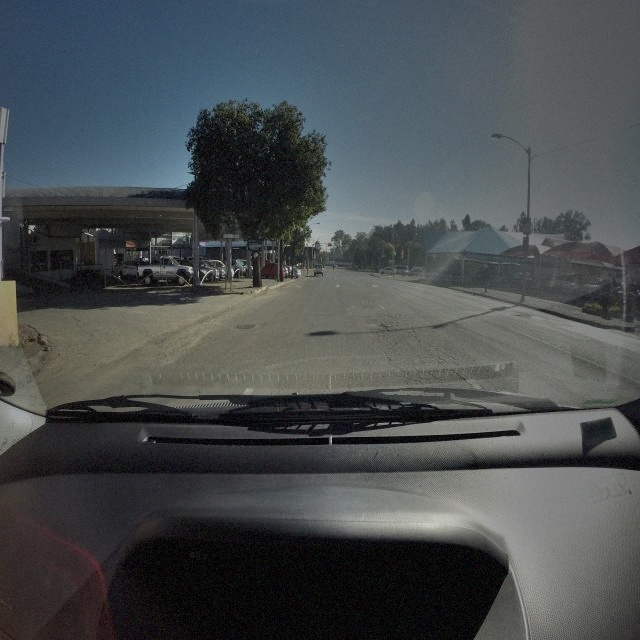pothole: (378, 321, 390, 334)
